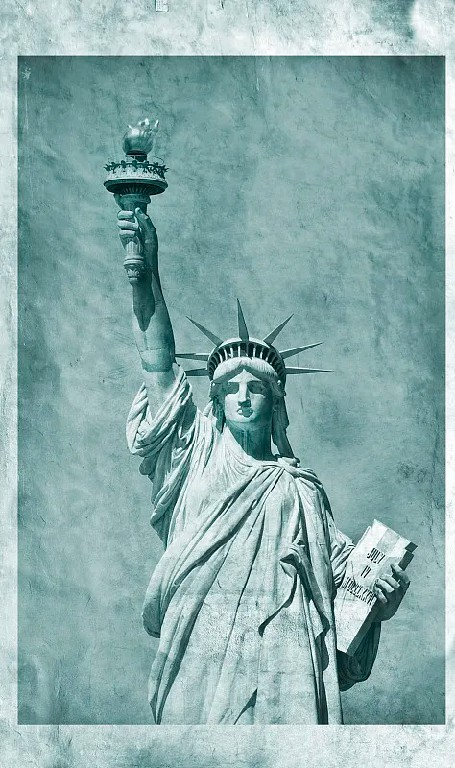SL: (103, 116, 418, 727)
